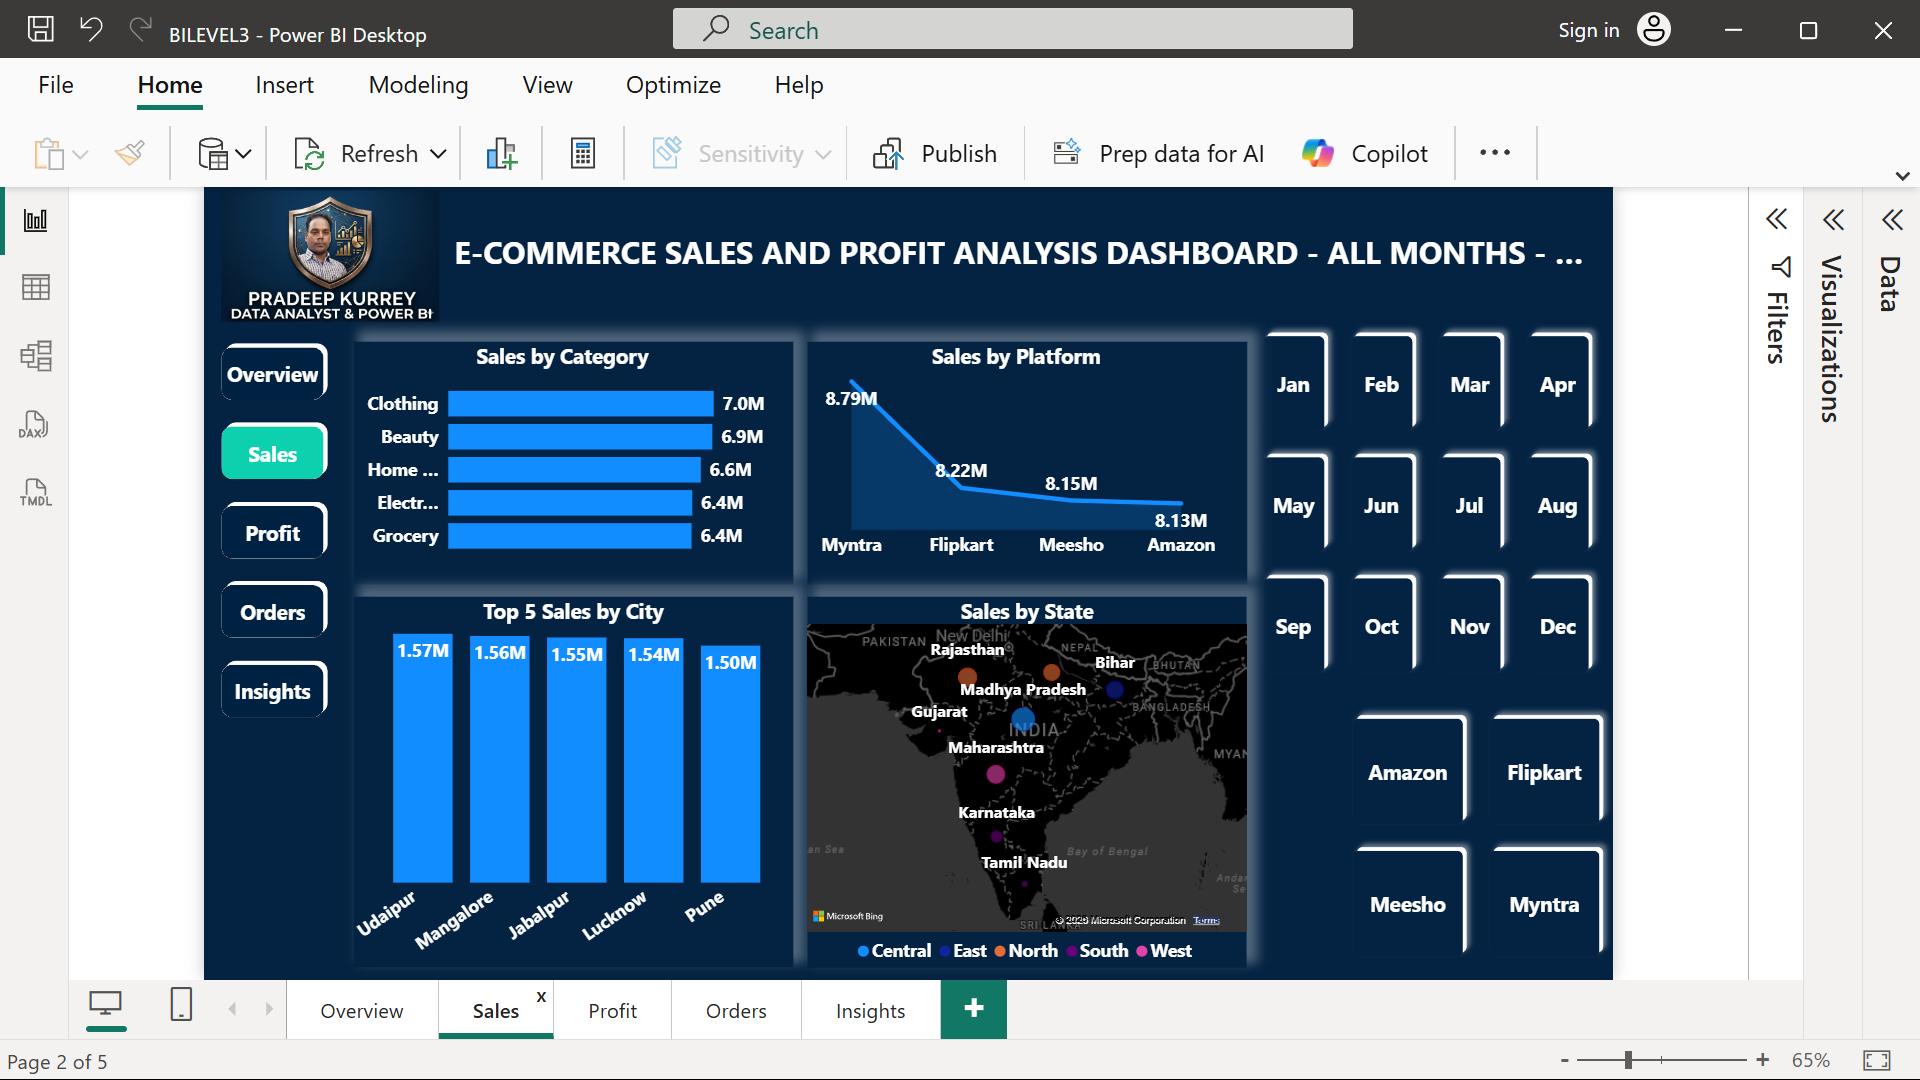

The dashboard page shown, as its layout file describes it:
{"tool":"powerbi","page":{"name":"Sales","canvas":[1280,720],"ordinal":1},"visuals":[{"type":"group","id":"g1","title":"Group 1","box":[11.1,1.6,1258.6,121.4],"z":0},{"type":"textbox","box":[11.1,1.6,1258.6,121.4],"z":0,"group":"g1"},{"type":"image","box":[11.1,3.4,207.9,119.6],"z":1000,"group":"g1"},{"type":"advancedSlicerVisual","fields":{"Values":["DATE TABLE.MONTH"]},"box":[950,123.1,321.1,330.8],"z":1000},{"type":"pageNavigator","box":[11,139.8,103,349.6],"z":2000},{"type":"advancedSlicerVisual","fields":{"Values":["Table1.Platform"]},"box":[1031.9,471.2,248.1,240.4],"z":3000},{"type":"clusteredBarChart","title":" Sales by Category","fields":{"Category":["Table1.Category"],"Y":["DATE TABLE.SALE 2024"]},"box":[136.2,139.8,399.3,220.8],"z":4000},{"type":"textbox","box":[223.1,40.4,1046.2,82.7],"z":5000},{"type":"clusteredColumnChart","title":"Top 5 Sales by City","fields":{"Y":["DATE TABLE.SALE 2024"],"Category":["Table1.City"]},"box":[136.2,371.7,399.3,336.7],"z":6000},{"type":"areaChart","title":" Sales by Platform","fields":{"Category":["Table1.Platform"],"Y":["DATE TABLE.SALE 2024"]},"box":[548.3,139.8,399.3,220.8],"z":7000},{"type":"map","title":" Sales by State","fields":{"Category":["Table1.State"],"Series":["Table1.Region"],"Size":["DATE TABLE.SALE 2024"]},"box":[548,372,399,337],"z":8000}]}

Visuals, with their boxes on the page's 1280x720 design canvas (x1, y1, x2, y2). These are canvas units, not pixel positions in the 1920x1080 screenshot, which may show the page scaled, cropped or inside an application window:
"Group 1" group: rect(11, 2, 1270, 123)
textbox: rect(11, 2, 1270, 123)
image: rect(11, 3, 219, 123)
advancedSlicerVisual - DATE TABLE.MONTH: rect(950, 123, 1271, 454)
pageNavigator: rect(11, 140, 114, 489)
advancedSlicerVisual - Table1.Platform: rect(1032, 471, 1280, 712)
" Sales by Category" clusteredBarChart: rect(136, 140, 536, 361)
textbox: rect(223, 40, 1269, 123)
"Top 5 Sales by City" clusteredColumnChart: rect(136, 372, 536, 708)
" Sales by Platform" areaChart: rect(548, 140, 948, 361)
" Sales by State" map: rect(548, 372, 947, 709)
